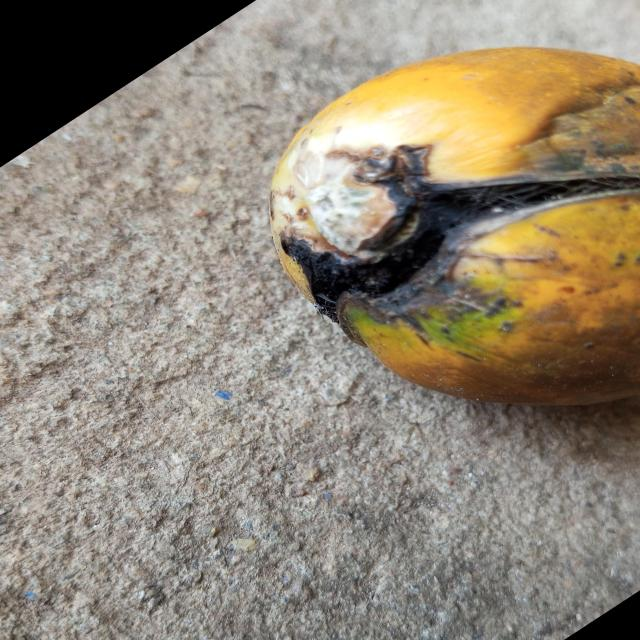damaged: (270, 46, 640, 408)
